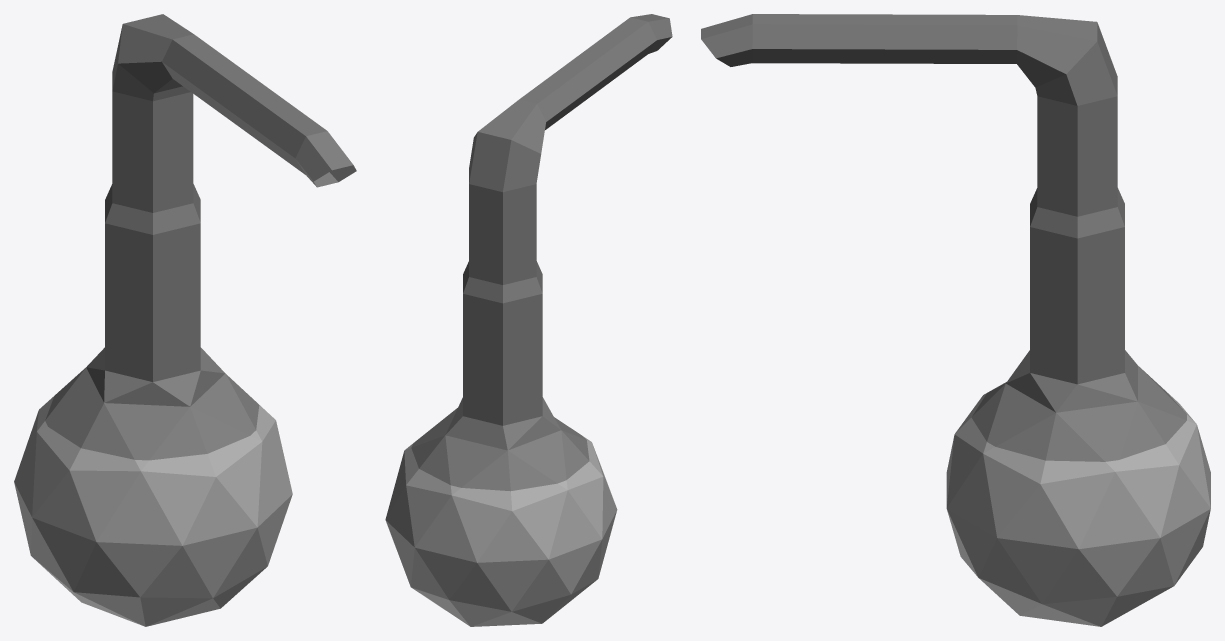
Rendered from alchemist_aparatus_749x28.gltf.
3 views of the same model, side by side, from view 1: azimuth 30°, elevation 25°; view 2: azimuth 150°, elevation 25°; view 3: azimuth 270°, elevation 25° (orthographic). The views are drawn at different scales.
Parts seen in each view (by area): view 1: alchemist_aparatus_749x28; view 2: alchemist_aparatus_749x28; view 3: alchemist_aparatus_749x28.
Part boxes in pixels (x1=…): alchemist_aparatus_749x28: x1=14, y1=14, x2=356, y2=626; alchemist_aparatus_749x28: x1=385, y1=14, x2=672, y2=626; alchemist_aparatus_749x28: x1=701, y1=14, x2=1210, y2=626.
Size of the model in its own units: 0.5225 by 1.24 by 0.9589.
2 materials, 2 textured.
